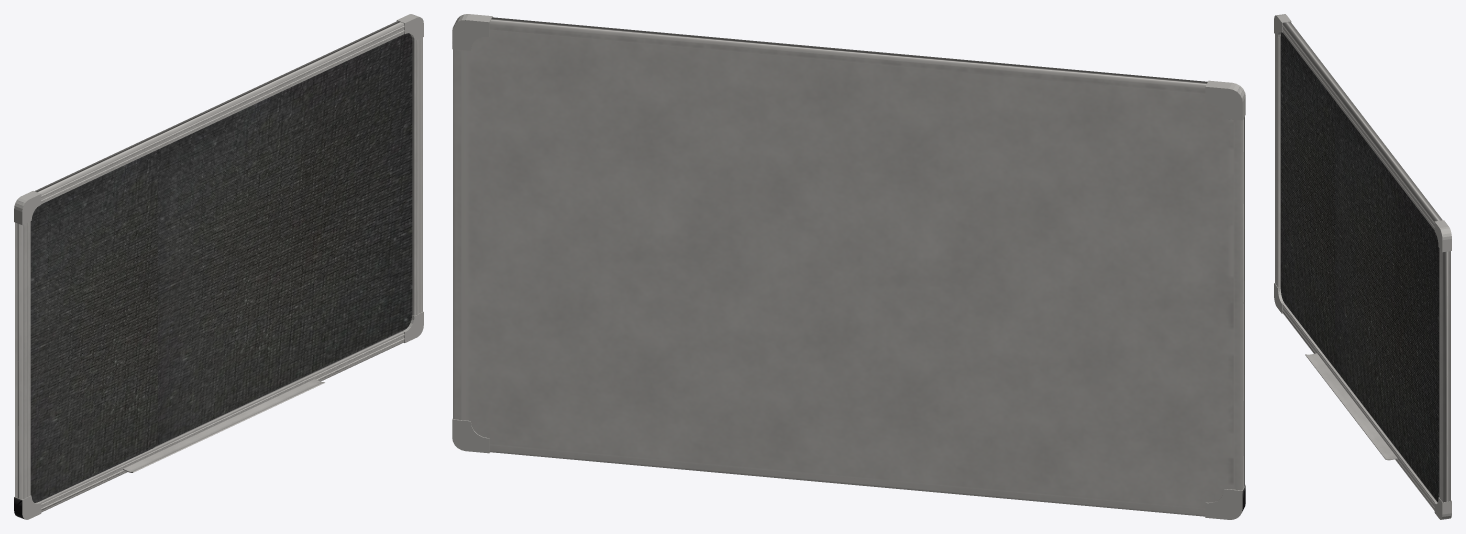
File: thumbtack.glb
3 views of the same model, side by side, from view 1: azimuth 30°, elevation 25°; view 2: azimuth 150°, elevation 25°; view 3: azimuth 270°, elevation 25° (orthographic). The views are drawn at different scales.
Visible parts, largest first — view 1: Whiteboard; view 2: Whiteboard; view 3: Whiteboard.
Boxes of the visible parts, x1,y1,x2,y2 form: Whiteboard: (14, 14, 423, 519); Whiteboard: (452, 14, 1245, 519); Whiteboard: (1274, 14, 1451, 519).
Size of the model in its own units: 2.87 by 1.76 by 0.9766.
Materials: 1 (1 with a texture image).
